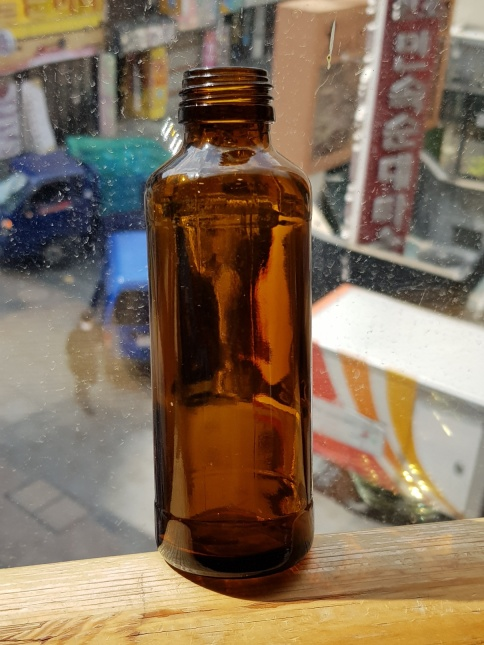Glass: (140, 64, 321, 584)
